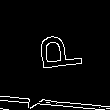P_W: (30, 37, 84, 80)
